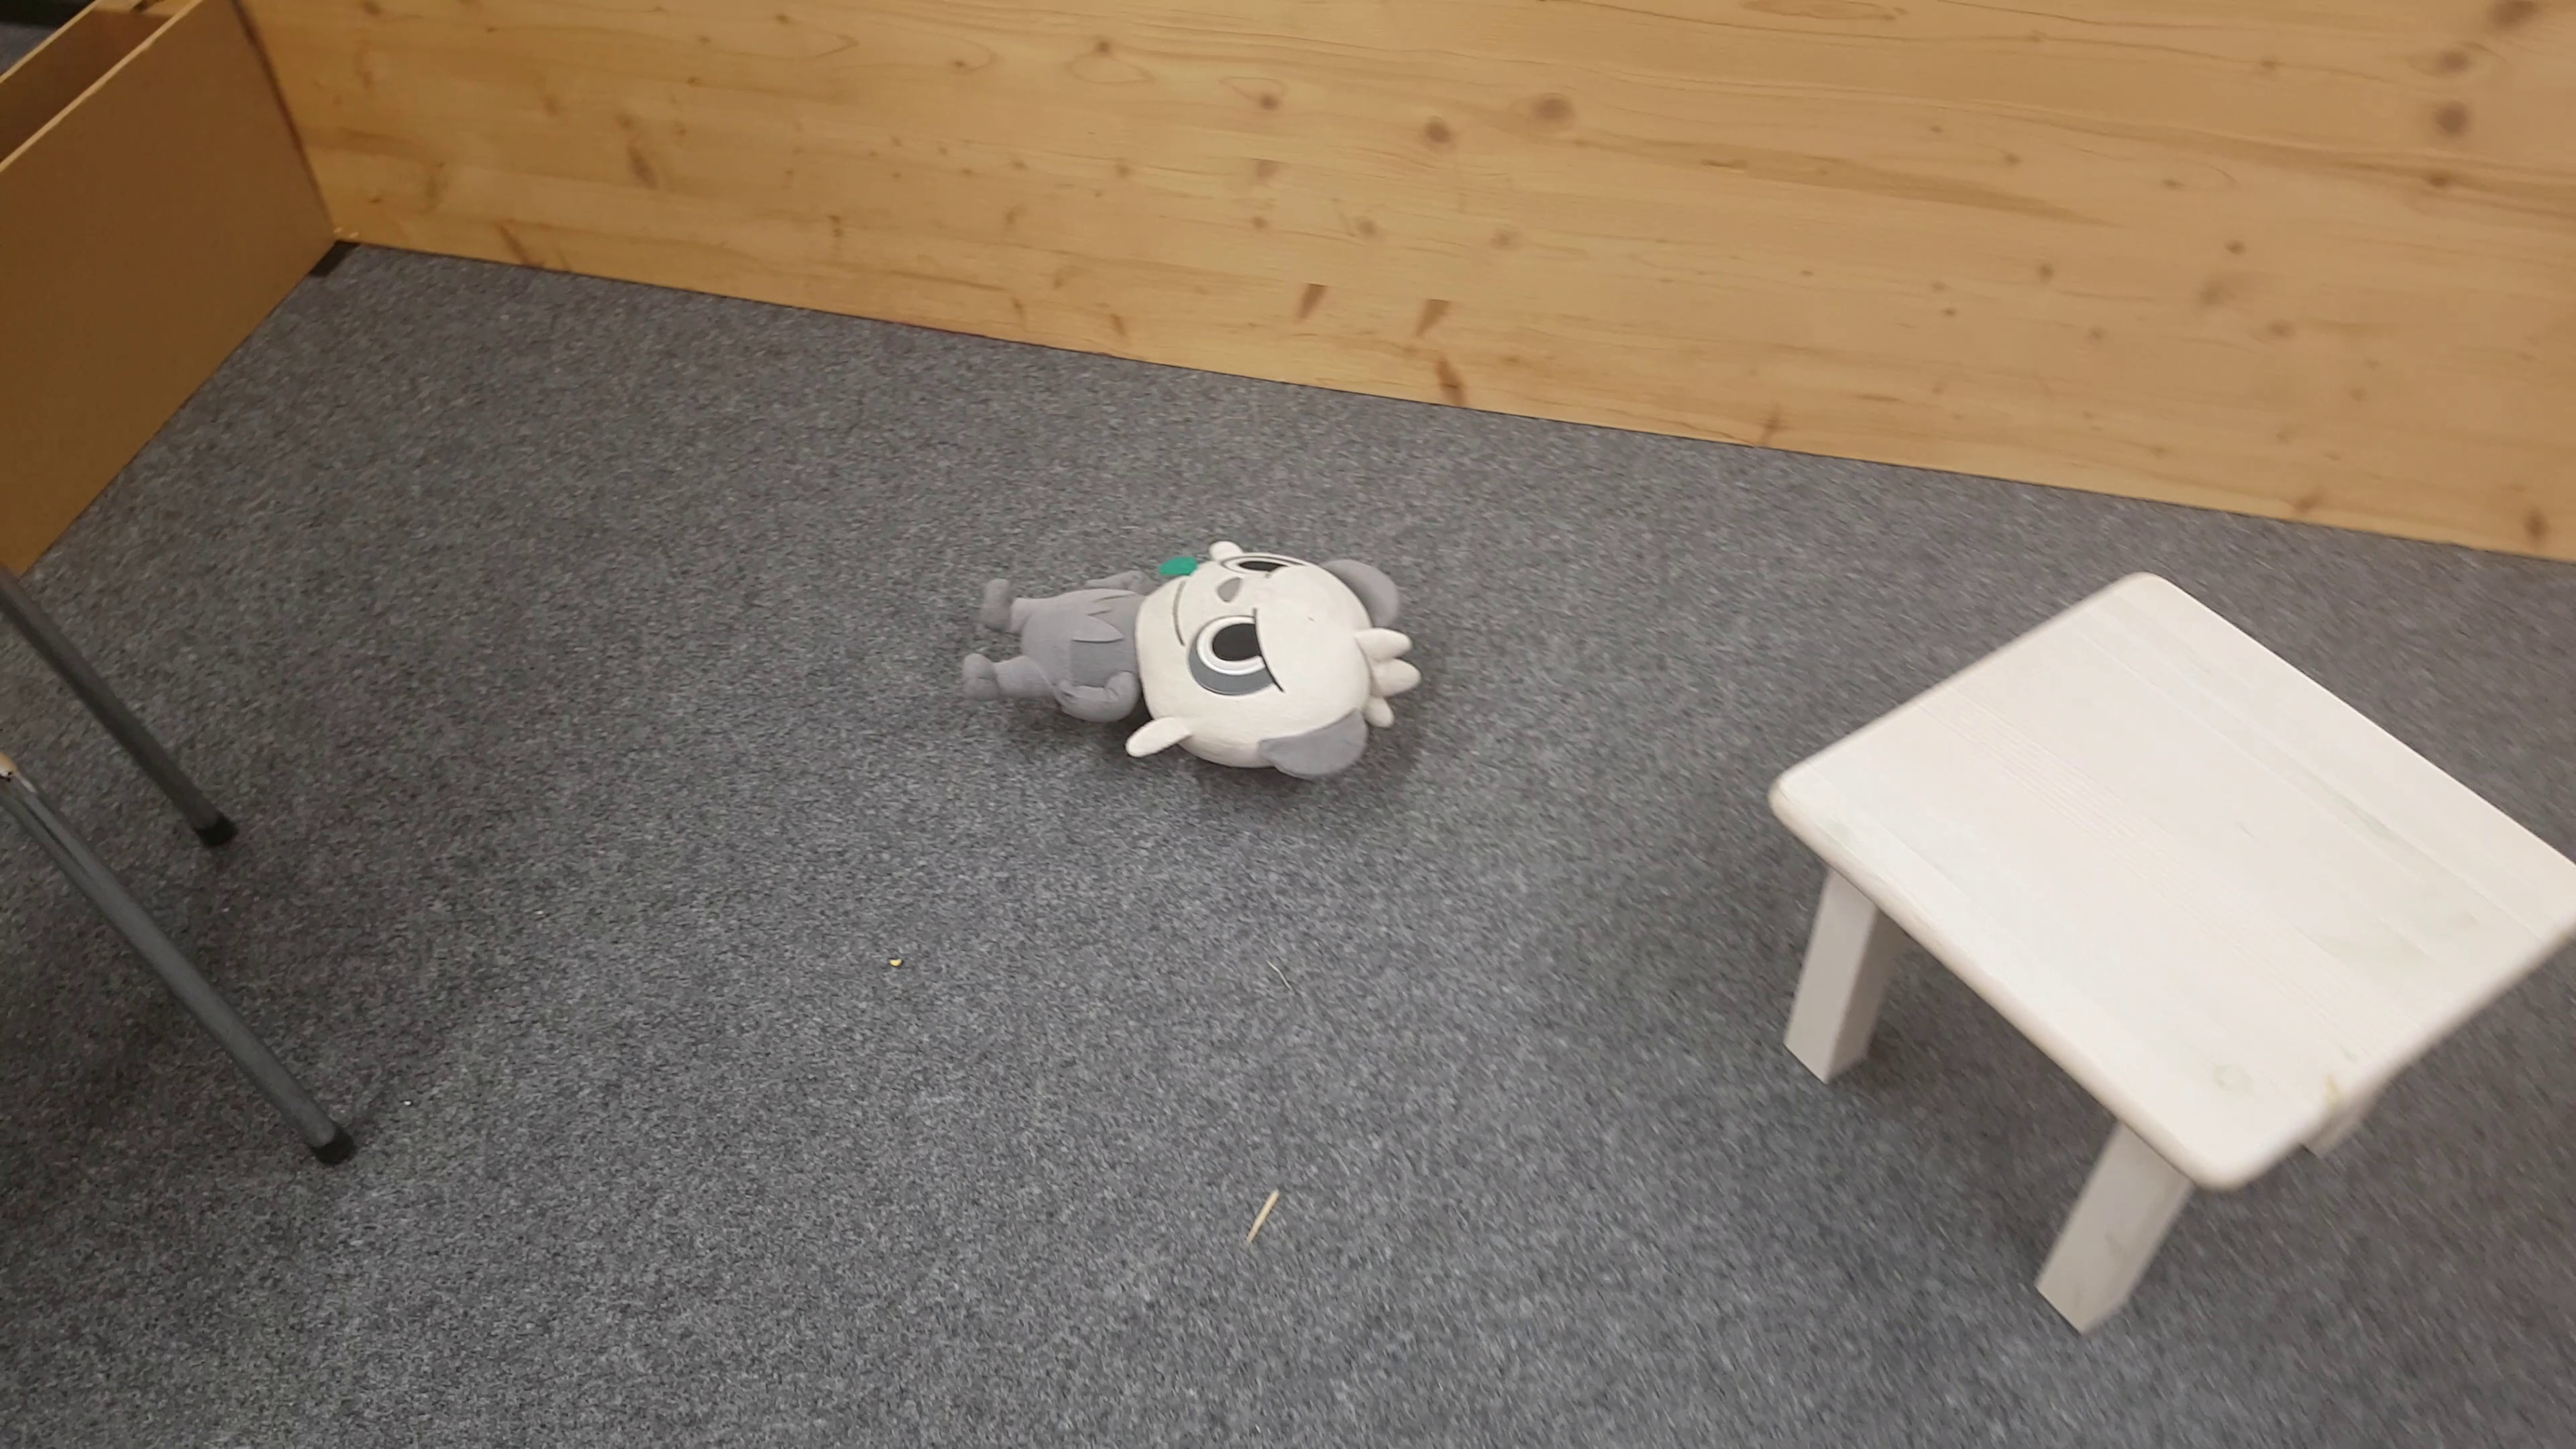grasp: (977, 536, 1421, 791)
